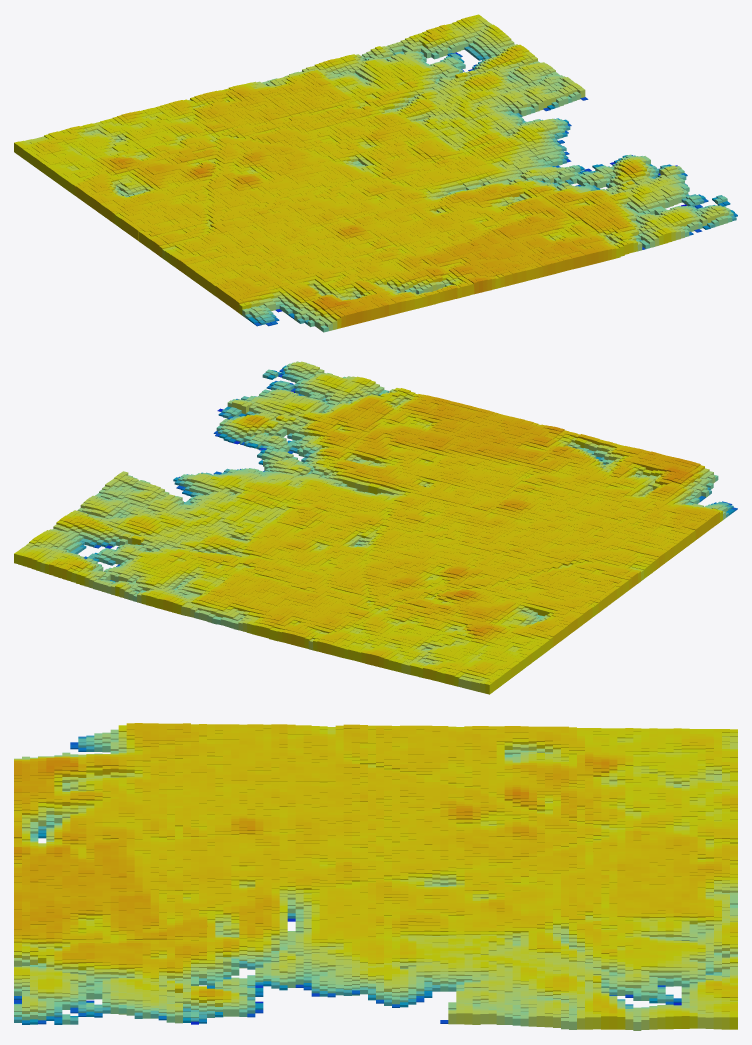
Rendered from population.glb.
The picture shows the model from 3 angles, top to bottom: view 1: azimuth 30°, elevation 25°; view 2: azimuth 150°, elevation 25°; view 3: azimuth 270°, elevation 25°; orthographic projection. The views are drawn at different scales.
Visible parts, largest first — view 1: population; view 2: population; view 3: population.
Part boxes in pixels (x1,y1,x2,y2): population: (14,14,737,332); population: (14,361,737,694); population: (14,723,737,1030).
Bounding box in the file's own units: 9000 × 502 × 8939.
